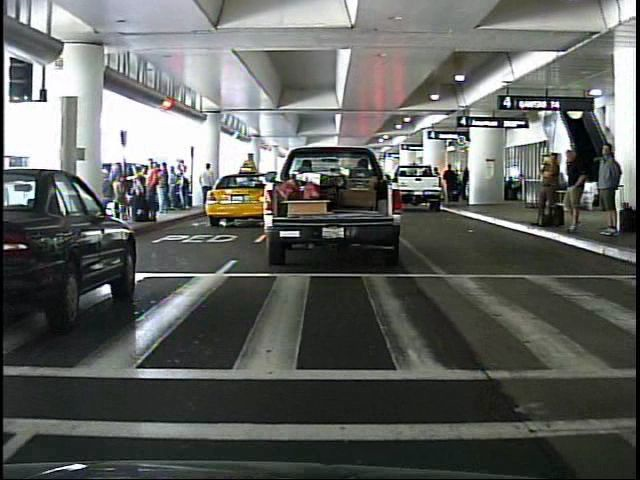person: (594, 139, 628, 244), (562, 143, 590, 238), (535, 145, 563, 231), (142, 158, 162, 226), (198, 161, 216, 214)
